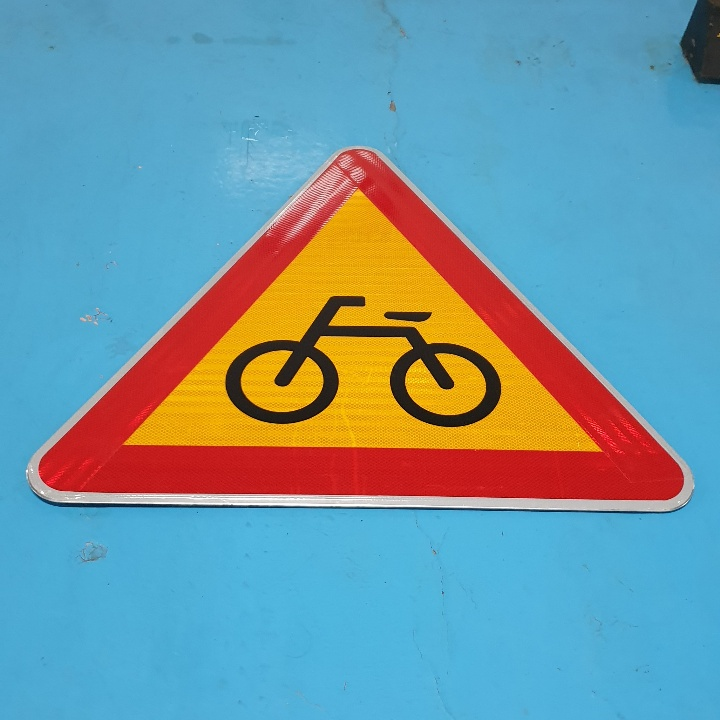bicycle: (35, 145, 688, 507)
